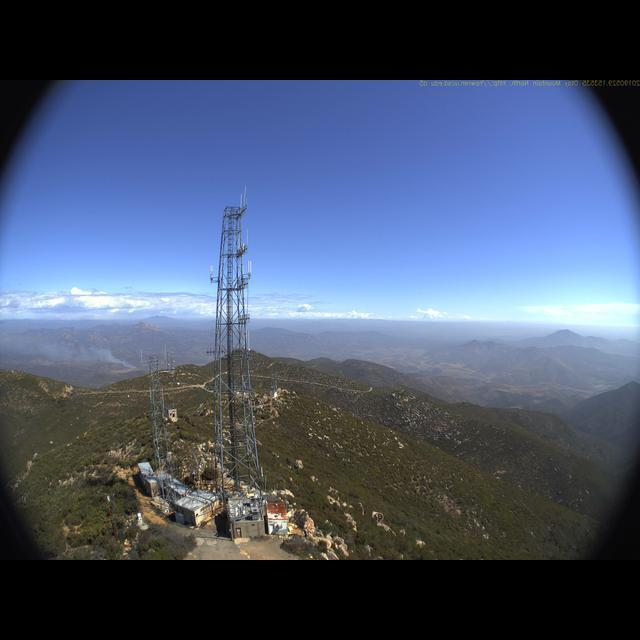Smoke: (25, 337, 142, 370)
